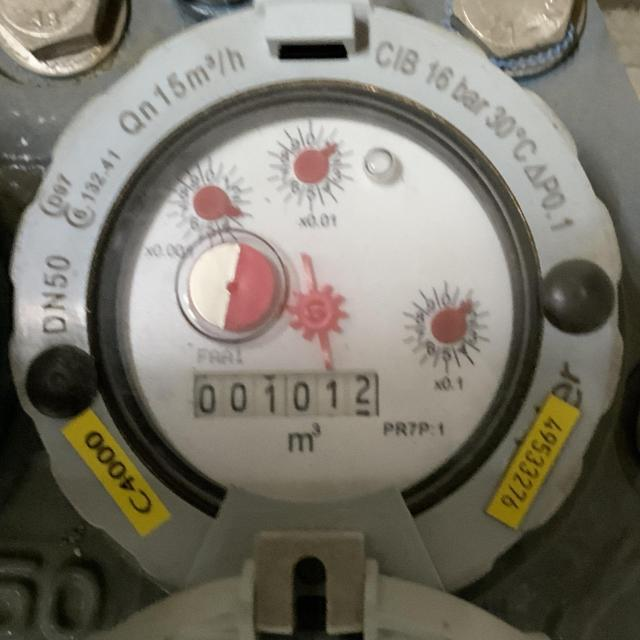gaz_meter: (118, 104, 510, 502)
indication: (187, 371, 379, 424)
